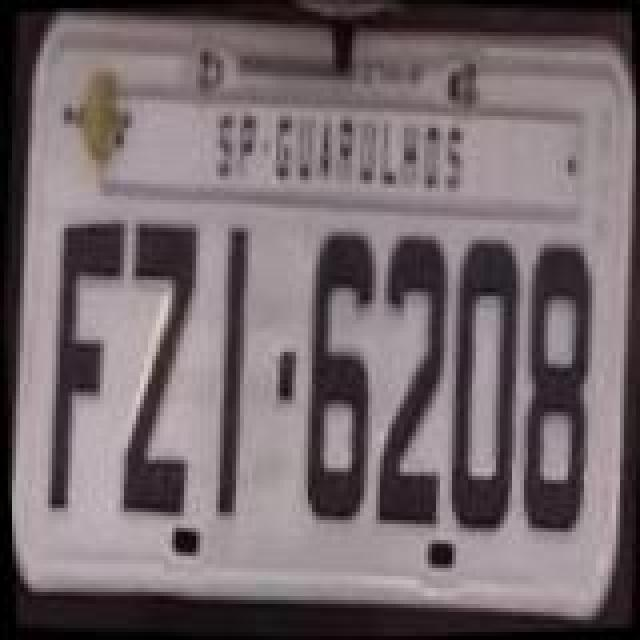1: (198, 222, 258, 518)
2: (362, 228, 462, 528)
6: (288, 222, 392, 526)
8: (504, 236, 608, 540)
F: (32, 214, 136, 514)
O: (428, 230, 532, 538)
Z: (104, 214, 208, 518)
